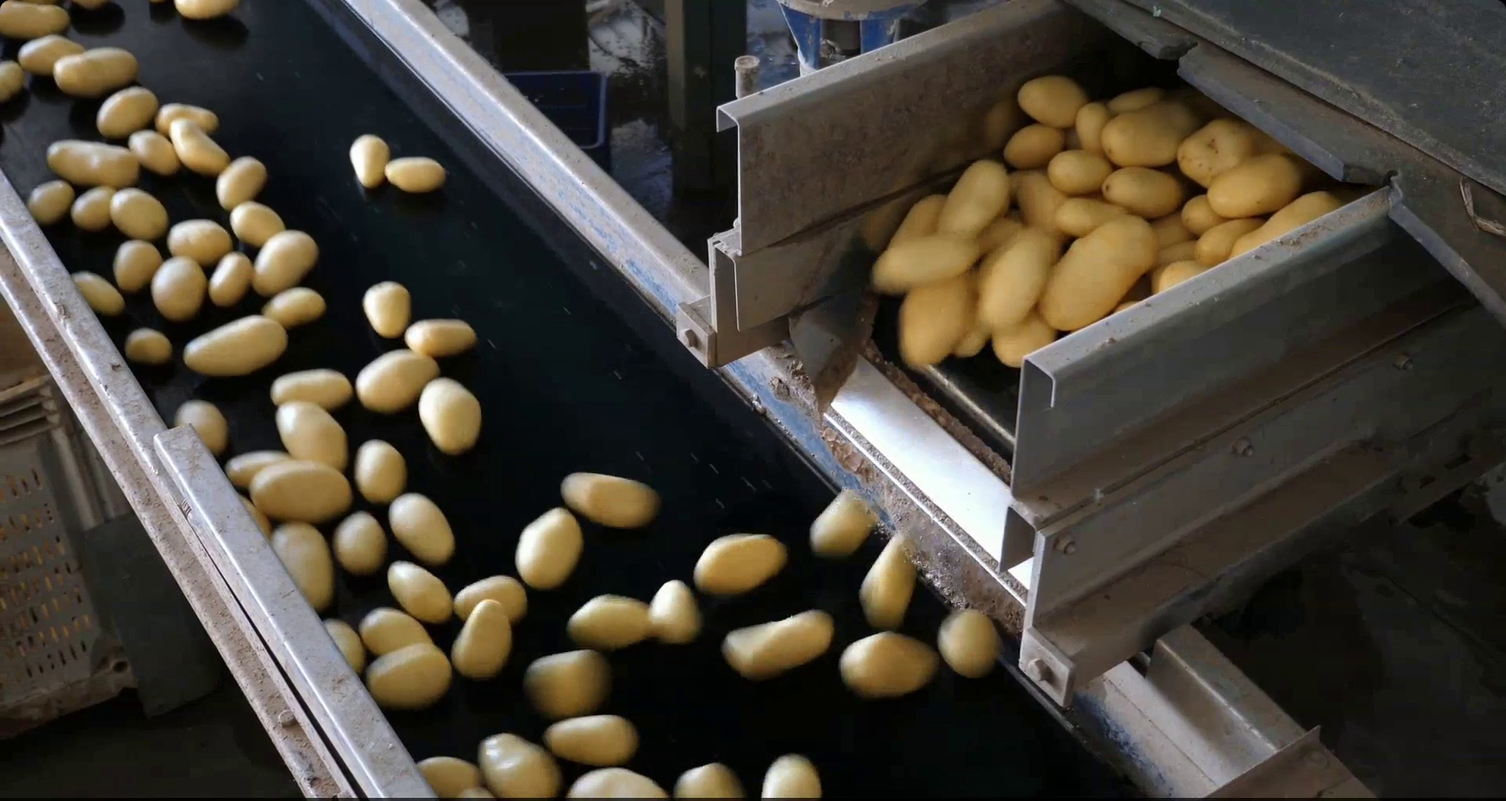potato: (1034, 211, 1166, 339), (1224, 184, 1351, 281), (972, 222, 1066, 338), (712, 603, 841, 683), (891, 264, 982, 375), (1173, 114, 1297, 194), (861, 228, 986, 299), (174, 312, 292, 382), (1201, 150, 1308, 226), (834, 627, 942, 702), (929, 154, 1014, 249), (690, 524, 792, 600), (244, 457, 358, 524), (857, 521, 925, 633), (511, 498, 589, 593), (517, 645, 614, 720), (361, 638, 454, 713), (267, 514, 336, 614), (555, 469, 664, 531), (352, 346, 444, 419), (472, 730, 566, 801), (561, 589, 662, 655), (271, 395, 353, 474), (805, 484, 882, 567), (447, 594, 518, 682), (41, 134, 143, 194), (540, 709, 644, 767), (417, 371, 484, 458), (387, 487, 458, 567), (935, 601, 1003, 684), (1097, 162, 1191, 222), (45, 42, 144, 98), (248, 227, 324, 299), (382, 553, 457, 625), (1096, 107, 1181, 170), (988, 303, 1061, 375), (145, 253, 214, 325), (330, 503, 394, 580), (262, 363, 358, 414), (883, 187, 955, 255), (348, 433, 413, 506), (1012, 73, 1090, 132), (643, 573, 704, 648), (356, 604, 438, 659), (446, 571, 533, 622), (166, 392, 233, 458), (89, 82, 166, 139), (1008, 166, 1068, 239), (358, 275, 418, 347), (1190, 212, 1263, 271), (162, 212, 237, 269), (400, 311, 482, 362), (104, 184, 172, 245), (559, 764, 671, 801), (169, 114, 232, 179), (753, 747, 827, 801), (1051, 193, 1133, 241), (999, 119, 1071, 173), (1044, 144, 1114, 198), (220, 446, 302, 492), (14, 31, 93, 78), (210, 152, 270, 213), (110, 234, 169, 295), (256, 279, 329, 328), (415, 753, 487, 801), (670, 758, 750, 801), (149, 96, 226, 139), (380, 150, 451, 196), (205, 245, 256, 309), (226, 198, 289, 248), (71, 265, 126, 321), (66, 181, 124, 234), (124, 125, 181, 178), (321, 614, 368, 678), (347, 130, 393, 193), (2, 2, 72, 43), (23, 176, 78, 227), (119, 324, 175, 368), (237, 488, 278, 544), (1071, 98, 1111, 155), (954, 306, 992, 365), (1151, 258, 1210, 295), (1144, 99, 1196, 137), (1100, 85, 1173, 112), (1179, 190, 1224, 232), (162, 1, 251, 22), (987, 212, 1024, 252), (1, 53, 26, 108), (1150, 209, 1190, 242), (1155, 240, 1201, 263), (452, 781, 498, 801), (1109, 296, 1142, 320), (73, 1, 109, 13)
